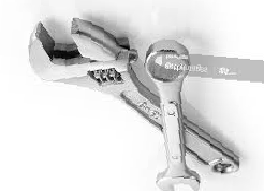Wrench: (24, 18, 264, 175)
